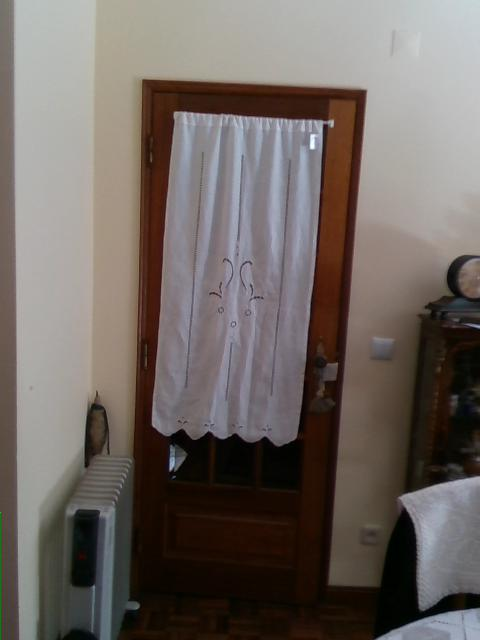door: (126, 79, 366, 614)
